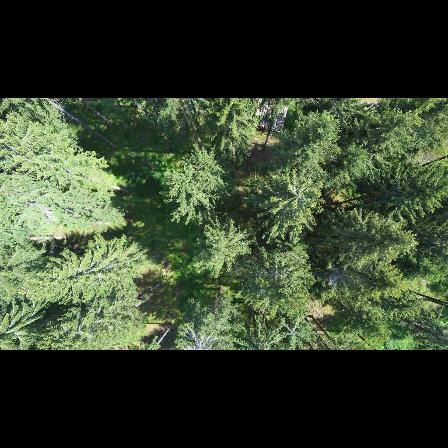Sick: (175, 317, 224, 350), (322, 260, 360, 297)
